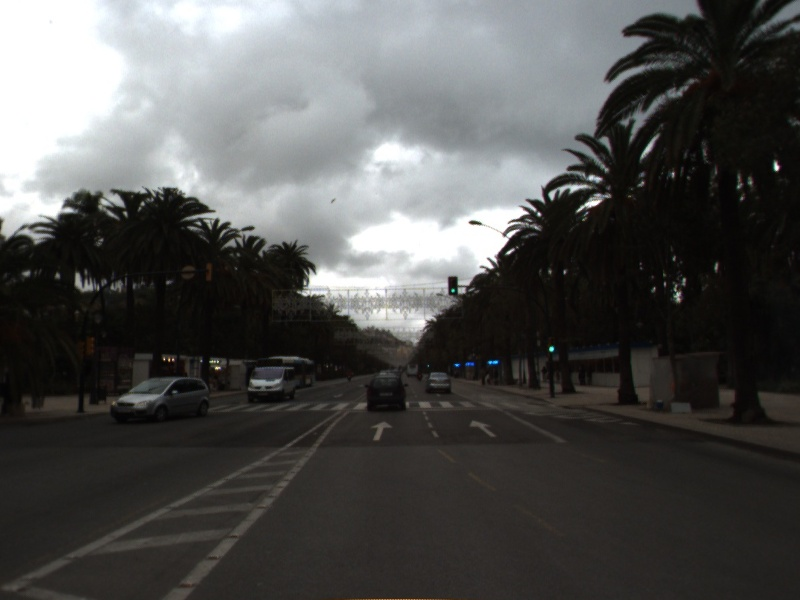STRAIGHT: (467, 418, 499, 439), (368, 419, 395, 442)
